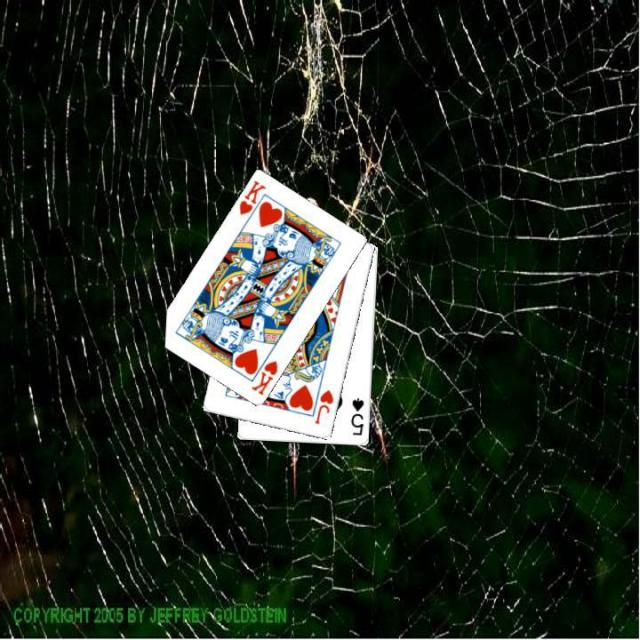5S: (348, 395, 366, 437)
JH: (311, 386, 335, 426)
KH: (235, 177, 268, 217), (248, 357, 280, 398)
